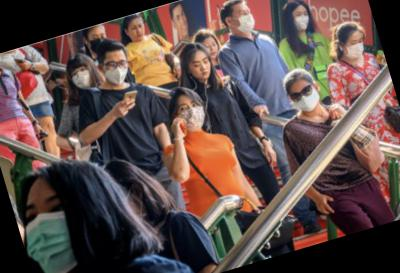with_mask: (15, 193, 85, 273), (286, 81, 325, 119), (175, 97, 211, 135), (100, 54, 135, 89), (230, 7, 260, 38), (340, 35, 370, 64), (69, 66, 96, 93), (84, 29, 112, 54), (290, 7, 314, 33)
without_mask: (187, 55, 217, 84), (202, 39, 222, 62), (127, 21, 148, 42)
